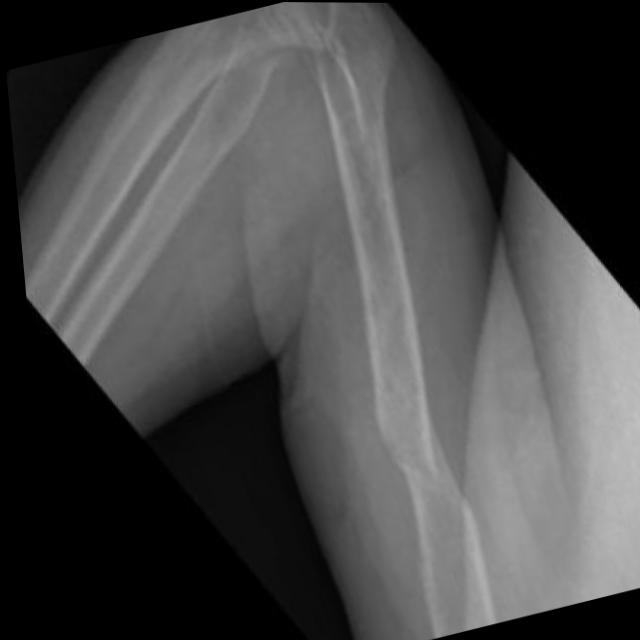fracture: (358, 405, 473, 527)
